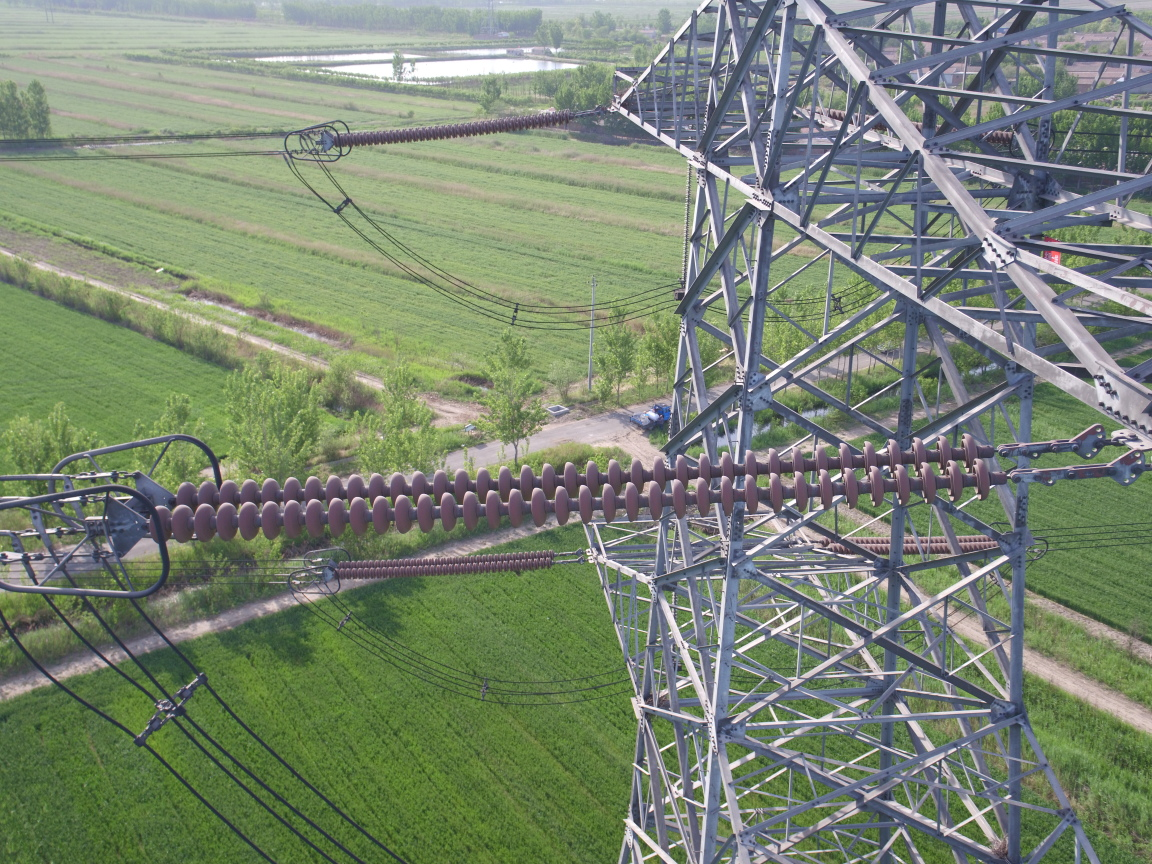insulator: (130, 431, 1052, 544), (334, 108, 590, 149)
